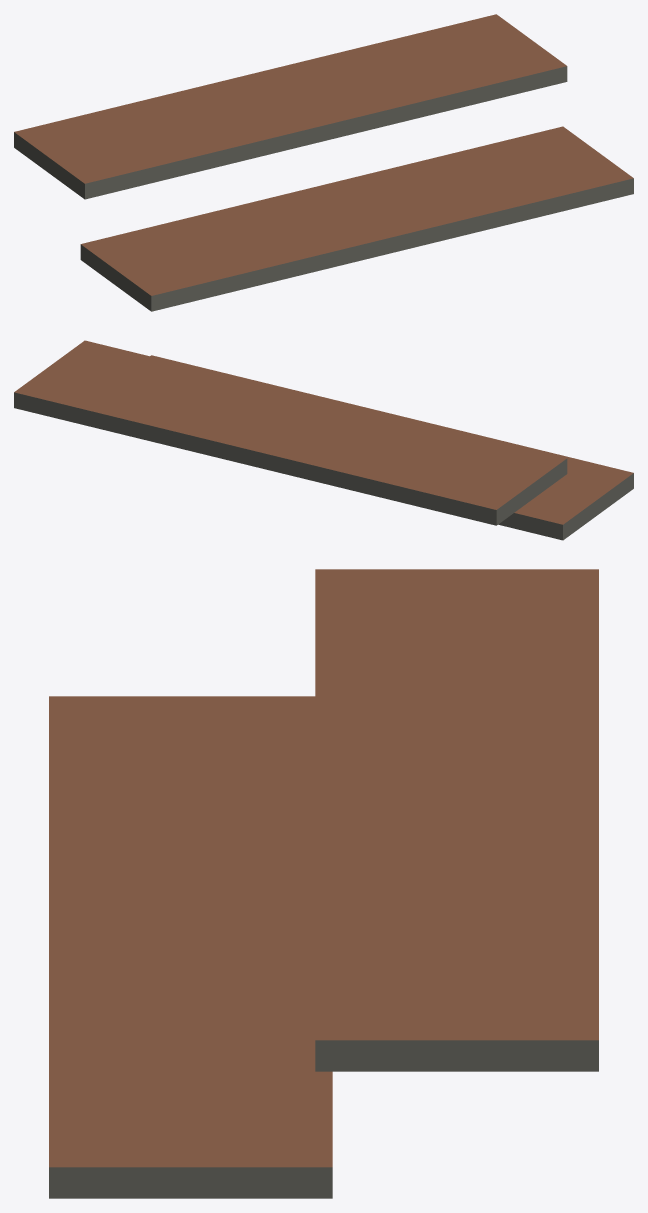
The model's file is OT_019_020_brown_stairs.glb.
The picture shows the model from 3 angles, top to bottom: view 1: azimuth 30°, elevation 25°; view 2: azimuth 150°, elevation 25°; view 3: azimuth 270°, elevation 25°; orthographic projection. The views are drawn at different scales.
Visible parts, largest first — view 1: brown_stairs; view 2: brown_stairs; view 3: brown_stairs.
Boxes of the visible parts, box(x1,y1,x2,y2) form: brown_stairs: box(14, 14, 633, 311); brown_stairs: box(14, 340, 633, 540); brown_stairs: box(49, 569, 598, 1198).
Size of the model in its own units: 1.5 by 0.2353 by 0.7402.
